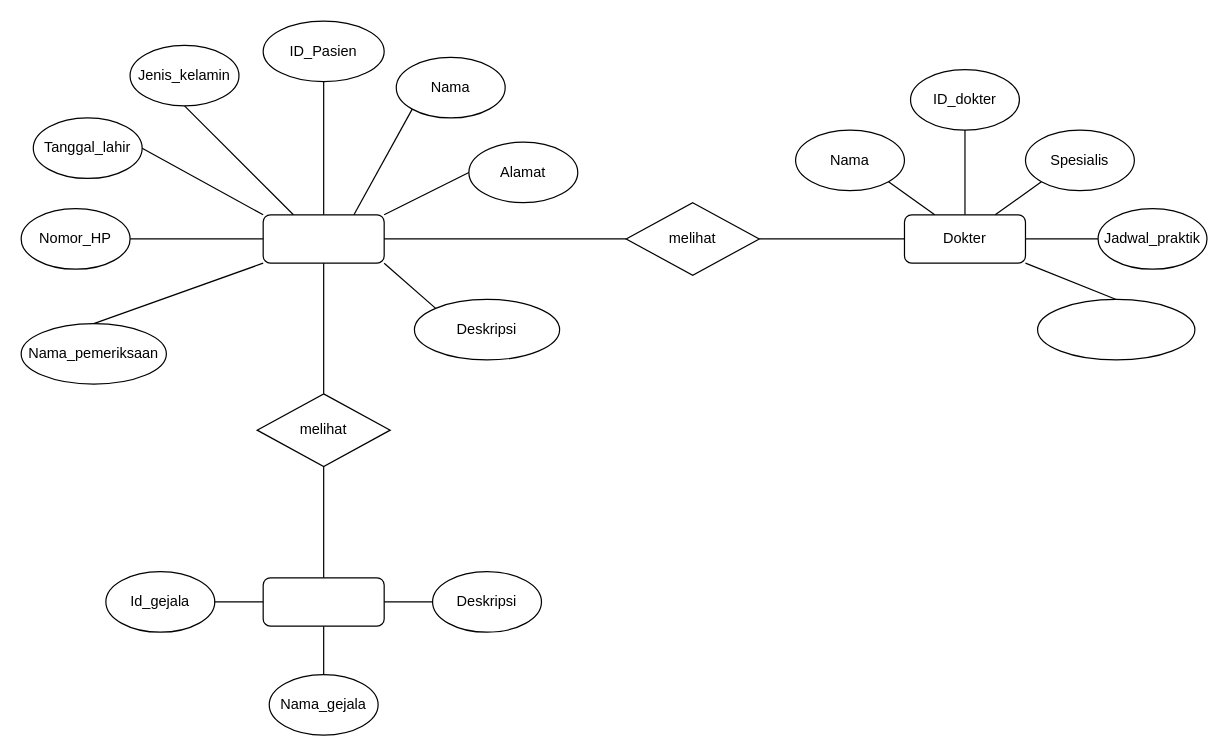
Image size: 1228x756. Some labels were removed from this diagram. The box of each missing label's shape, as (x1, y1, x2, y2) in pixels:
Gejala: (262, 577, 384, 626)
Pasien: (262, 214, 384, 263)
Status_ketersediaan: (1036, 298, 1195, 360)
